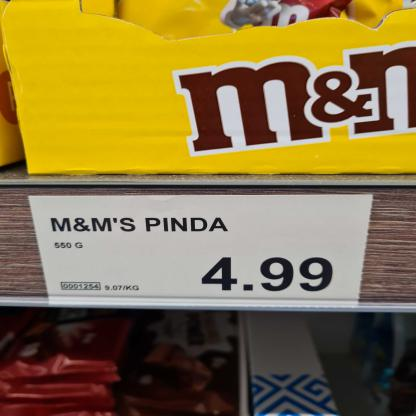prtg: (29, 194, 376, 308)
